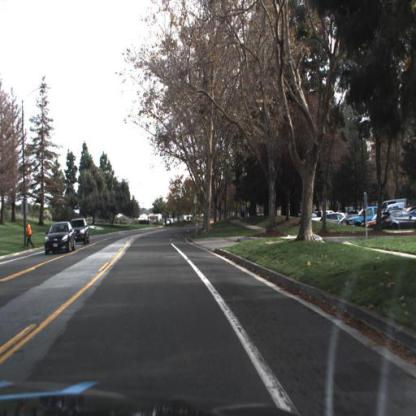car: (42, 221, 77, 256), (345, 204, 380, 229), (382, 209, 416, 233), (69, 216, 93, 247), (72, 219, 91, 245)
pedestrian: (25, 220, 35, 252)
